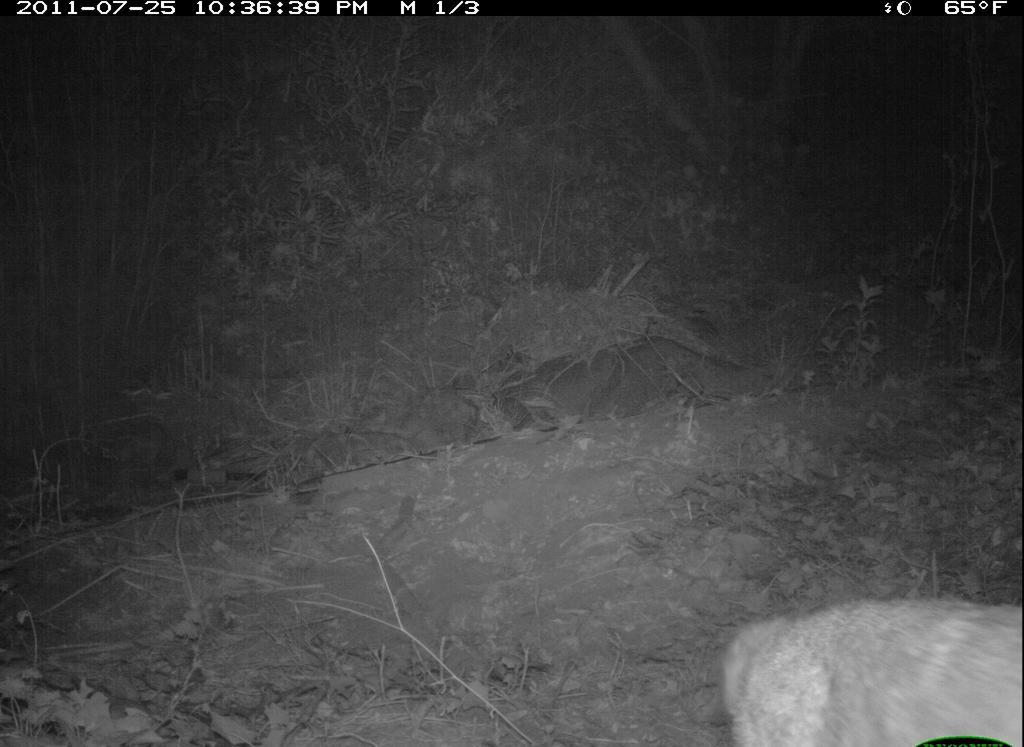bobcat: (699, 585, 1019, 745)
